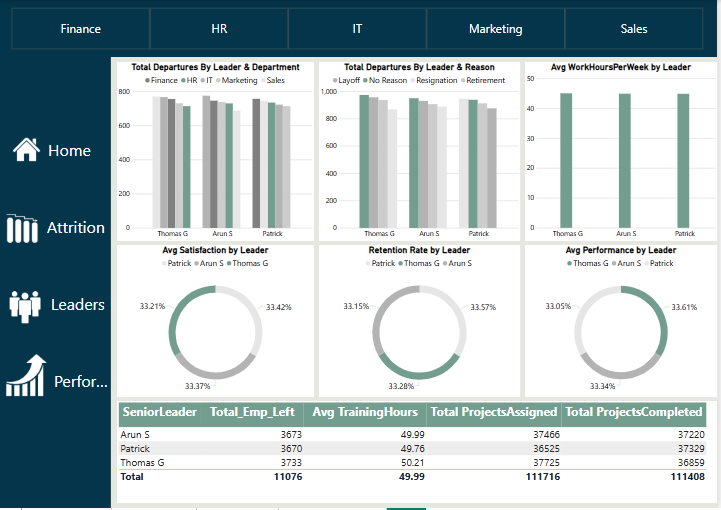

What the dashboard file says about the page in this screenshot:
{"tool":"powerbi","page":{"name":"Leaders","canvas":[2400,1700],"ordinal":2},"visuals":[{"type":"shape","box":[354.7,0,2044.7,190.7],"z":0},{"type":"shape","box":[0,0,371.5,1700],"z":1000},{"type":"clusteredColumnChart","title":"Total Departures By Leader & Department","fields":{"Category":["HR Data1.SeniorLeader"],"Y":["Measures (2).Total_Emp_Left"],"Series":["HR Data1.Department"]},"box":[391.5,207.5,659.3,599],"z":2000},{"type":"tableEx","title":"Terminated Employees Trend","fields":{"Values":["HR Data1.SeniorLeader","Measures (2).Total_Emp_Left","Avg(HR Data1.TrainingHours)","Sum(HR Data1.ProjectsAssigned)","Sum(HR Data1.ProjectsCompleted)"]},"box":[391.5,1341.9,2007.9,341.3],"z":3000},{"type":"clusteredColumnChart","title":"Total Departures By Leader & Reason","fields":{"Category":["HR Data1.SeniorLeader"],"Y":["Measures (2).Total_Emp_Left"],"Series":["HR Data1.ReasonForLeaving"]},"box":[1067.5,207.5,672.6,599],"z":4000},{"type":"image","box":[26.8,438.4,123.8,123.8],"z":5000},{"type":"actionButton","box":[150.6,438.4,157.3,123.8],"z":6000},{"type":"actionButton","box":[150.6,1211.4,220.9,123.8],"z":7000},{"type":"image","box":[0,920.3,164,227.6],"z":8000},{"type":"actionButton","box":[150.6,953.7,204.1,123.8],"z":9000},{"type":"image","box":[0,659.3,150.6,200.8],"z":10000},{"type":"actionButton","box":[150.6,696.1,204.1,123.8],"z":11000},{"type":"donutChart","title":"Retention Rate by Leader","fields":{"Category":["HR Data1.SeniorLeader"],"Y":["Measures (2).Retention_Rate"]},"box":[1067.5,819.9,672.6,508.7],"z":12000},{"type":"donutChart","title":"Avg Satisfaction by Leader","fields":{"Category":["HR Data1.SeniorLeader"],"Y":["Avg(HR Data1.JobSatisfactionScore)"]},"box":[391.5,819.9,659.3,508.7],"z":13000},{"type":"donutChart","title":"Avg Performance by Leader","fields":{"Category":["HR Data1.SeniorLeader"],"Y":["Avg(HR Data1.PerformanceRating)"]},"box":[1756.9,819.9,642.5,508.7],"z":14000},{"type":"columnChart","title":"Avg WorkHoursPerWeek by Leader","fields":{"Y":["Avg(HR Data1.WorkHoursPerWeek)"],"Category":["HR Data1.SeniorLeader"]},"box":[1756.9,207.5,642.5,599],"z":15000},{"type":"slicer","fields":{"Values":["HR Data1.Department"]},"box":[13.4,20.1,2362.6,150.6],"z":16000},{"type":"image","box":[13.4,1174.6,150.6,160.6],"z":17000}]}

Visuals, with their boxes on the page's 2400x1700 design canvas (x1, y1, x2, y2). These are canvas units, not pixel positions in the 721x510 screenshot, which may show the page scaled, cropped or inside an application window:
shape: rect(355, 0, 2399, 191)
shape: rect(0, 0, 372, 1700)
"Total Departures By Leader & Department" clusteredColumnChart: rect(392, 208, 1051, 806)
"Terminated Employees Trend" tableEx: rect(392, 1342, 2399, 1683)
"Total Departures By Leader & Reason" clusteredColumnChart: rect(1068, 208, 1740, 806)
image: rect(27, 438, 151, 562)
actionButton: rect(151, 438, 308, 562)
actionButton: rect(151, 1211, 372, 1335)
image: rect(0, 920, 164, 1148)
actionButton: rect(151, 954, 355, 1078)
image: rect(0, 659, 151, 860)
actionButton: rect(151, 696, 355, 820)
"Retention Rate by Leader" donutChart: rect(1068, 820, 1740, 1329)
"Avg Satisfaction by Leader" donutChart: rect(392, 820, 1051, 1329)
"Avg Performance by Leader" donutChart: rect(1757, 820, 2399, 1329)
"Avg WorkHoursPerWeek by Leader" columnChart: rect(1757, 208, 2399, 806)
slicer - HR Data1.Department: rect(13, 20, 2376, 171)
image: rect(13, 1175, 164, 1335)
